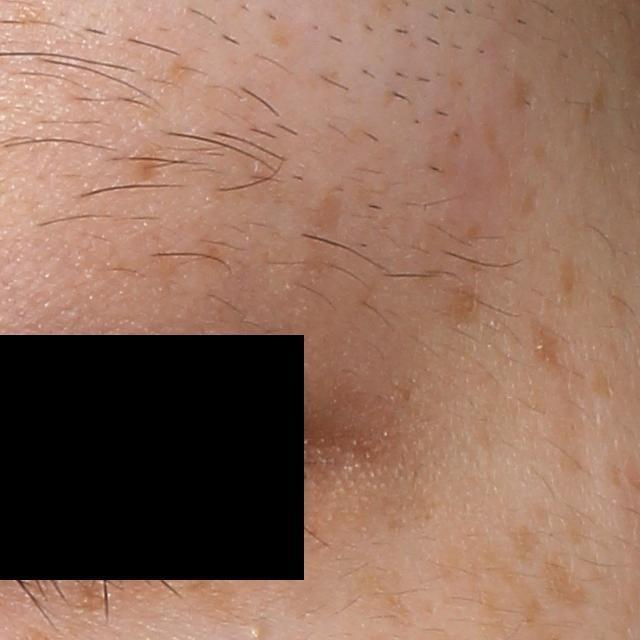melasma: (350, 564, 421, 634), (475, 103, 524, 184), (529, 316, 573, 372), (542, 561, 585, 610), (442, 283, 482, 332), (301, 193, 346, 236), (505, 524, 550, 562), (553, 251, 583, 300), (129, 149, 163, 185), (514, 589, 547, 626), (519, 184, 542, 219)
